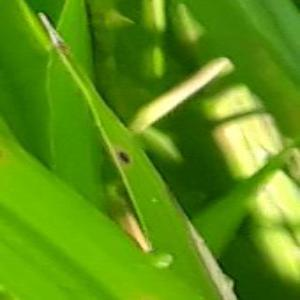Brown_Spot: (112, 145, 138, 169)
